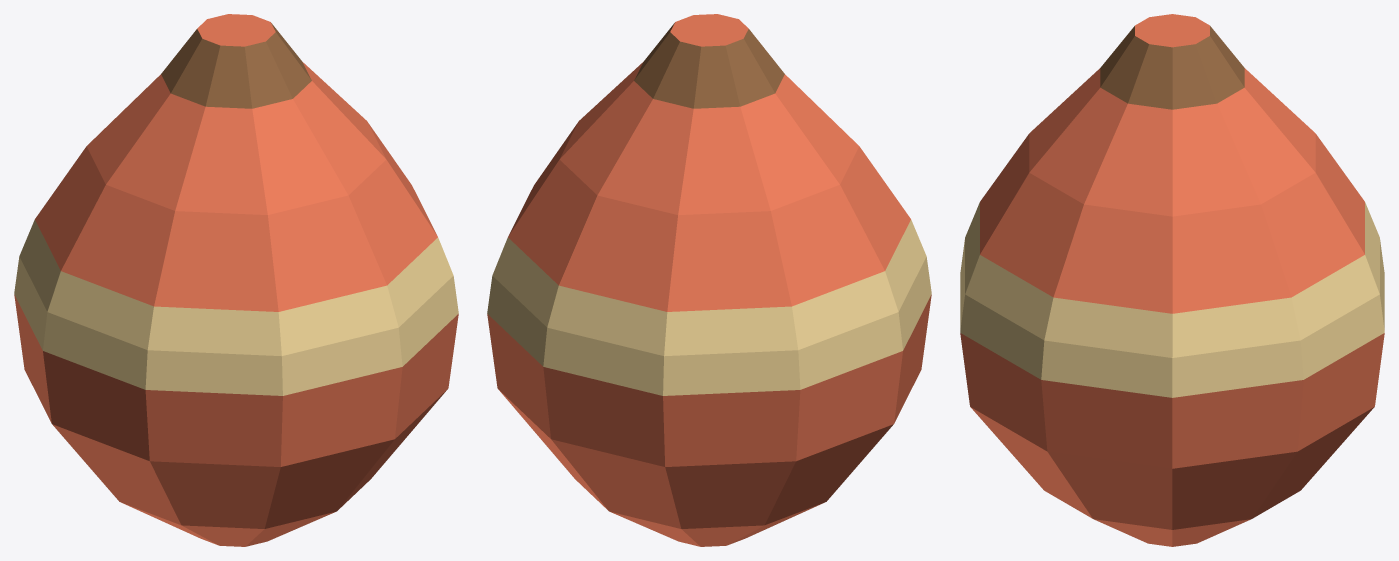
Rendered from FishingFloat.fbx.
3 renders of one model, left to right at view 1: azimuth 30°, elevation 25°; view 2: azimuth 150°, elevation 25°; view 3: azimuth 270°, elevation 25°, orthographic.
Visible parts, largest first — view 1: FishingFloat; view 2: FishingFloat; view 3: FishingFloat.
Boxes of the visible parts, x1,y1,x2,y2 form: FishingFloat: [14, 14, 458, 546]; FishingFloat: [487, 14, 931, 546]; FishingFloat: [960, 14, 1384, 546].
Size of the model in its own units: 43 by 53 by 40.9.
